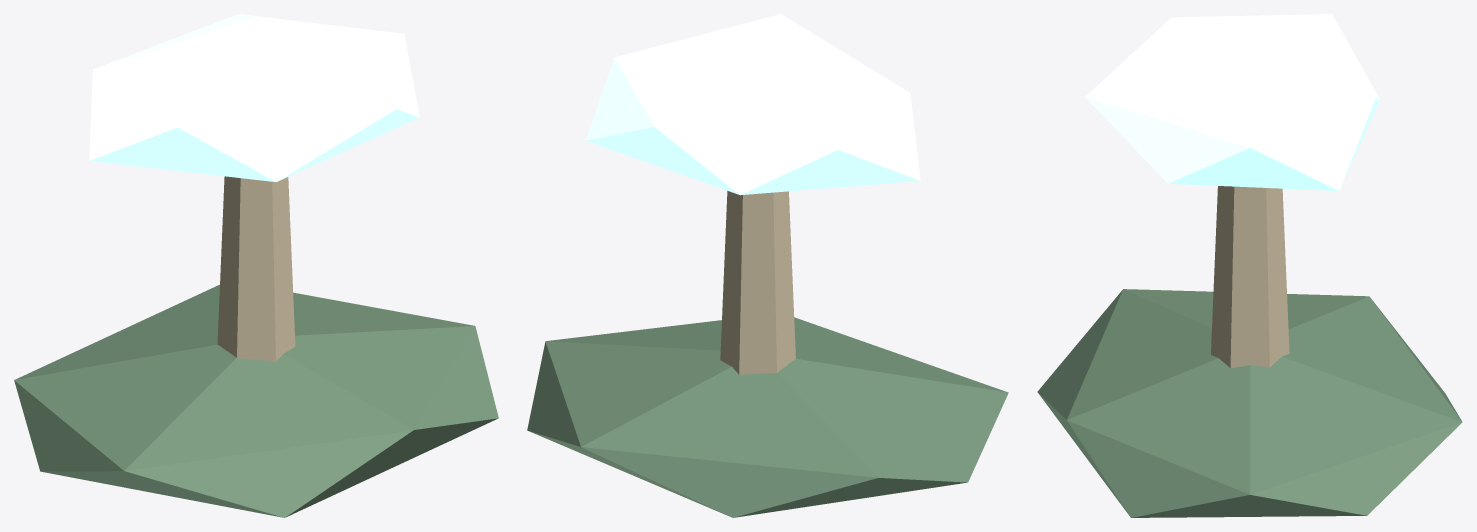
File: glow_mushroom_01.glb
3 views of the same model, side by side, from view 1: azimuth 30°, elevation 25°; view 2: azimuth 150°, elevation 25°; view 3: azimuth 270°, elevation 25° (orthographic). The views are drawn at different scales.
Visible parts, largest first — view 1: glow_mushroom_01; view 2: glow_mushroom_01; view 3: glow_mushroom_01.
Boxes of the visible parts, box(x1,y1,x2,y2) form: glow_mushroom_01: box(14, 14, 498, 517); glow_mushroom_01: box(527, 14, 1008, 517); glow_mushroom_01: box(1037, 14, 1462, 517).
Bounding box in the file's own units: 0.4469 × 0.4397 × 0.3752.
